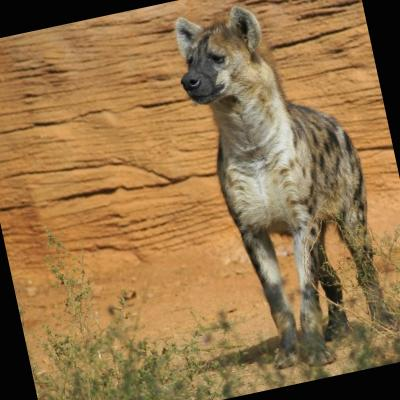hyenas: (140, 0, 400, 396)
